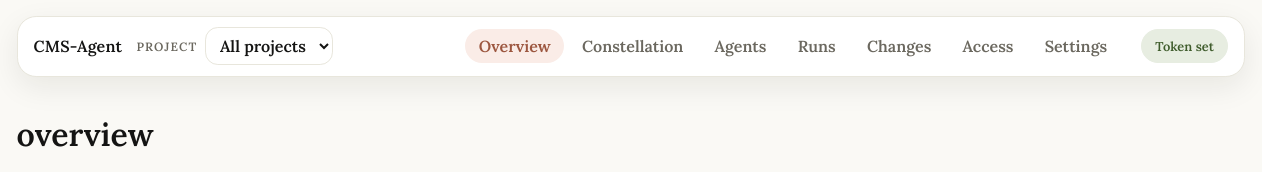
app shell routing › navigates on left click, updating the URL and aria-current
The image size is (1262, 172).
Step 1. Click the link "Runs" → {"x": 817, "y": 46}, box [798,36,836,56]
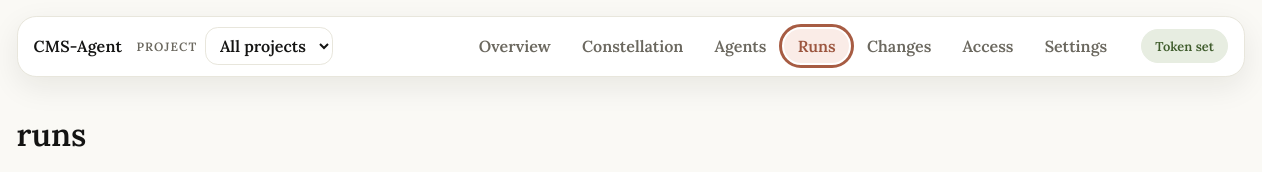
Result: the heading "runs" is shown at [17,114,86,155]
